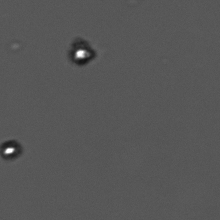Living Cell: (70, 41, 95, 66), (1, 138, 25, 161)
